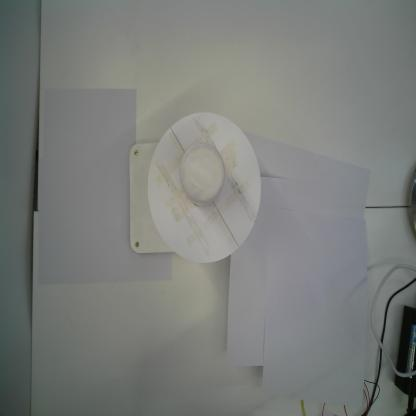Canned Food: (177, 140, 227, 210)
